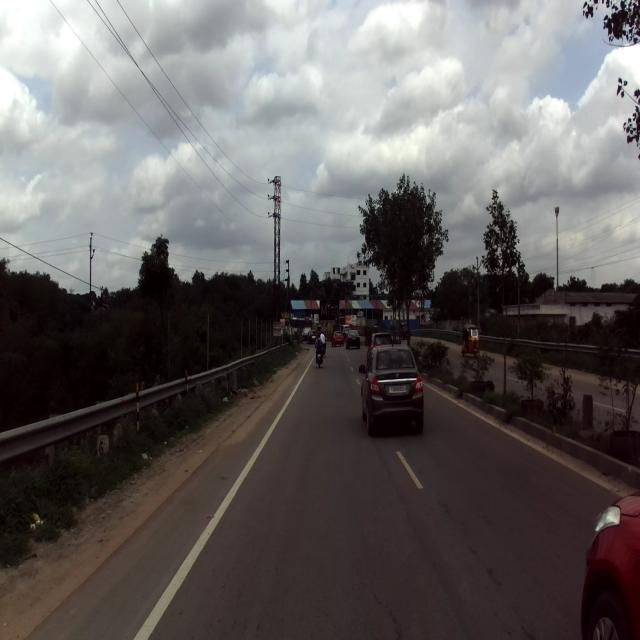car: (358, 342, 424, 436)
